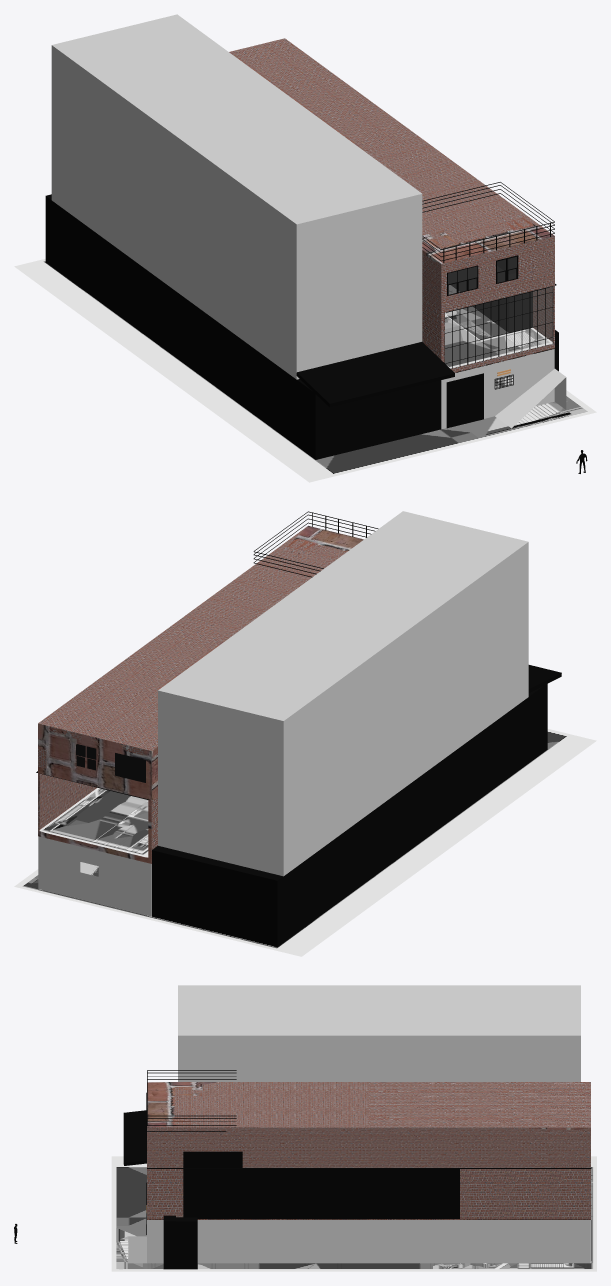
The model's file is turbine_hall_from_obj.glb.
3 views of the same model, one above another, from view 1: azimuth 30°, elevation 25°; view 2: azimuth 150°, elevation 25°; view 3: azimuth 270°, elevation 25° (orthographic). The views are drawn at different scales.
Visible parts, largest first — view 1: turbine_hall; view 2: turbine_hall; view 3: turbine_hall.
Part boxes in pixels (x1=…): turbine_hall: x1=14, y1=14, x2=596, y2=482; turbine_hall: x1=14, y1=511, x2=596, y2=956; turbine_hall: x1=14, y1=985, x2=596, y2=1271.
Bounding box in the file's own units: 22.78 × 16.8 × 48.65.
Materials: 12 (3 with a texture image).
